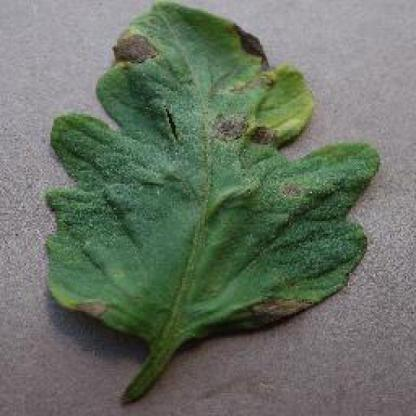Tomato_Blight: (44, 0, 379, 343)
